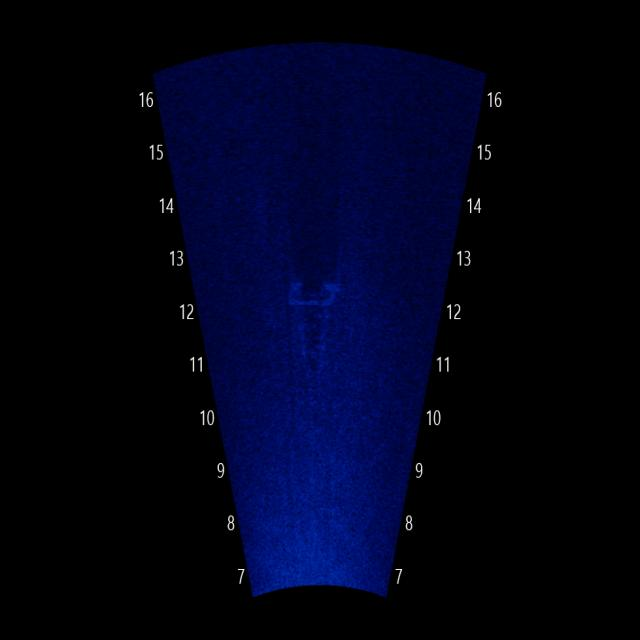triangle: (284, 268, 340, 432)
